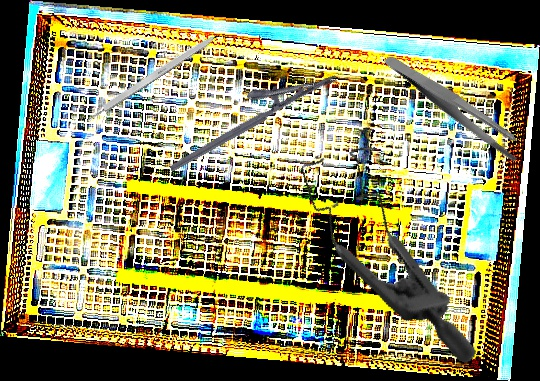Dressing Forceps: (383, 26, 527, 186)
Needle Holder: (156, 51, 339, 173)
Scalpel Handle: (83, 30, 220, 124)
Speculum: (254, 123, 535, 366)
